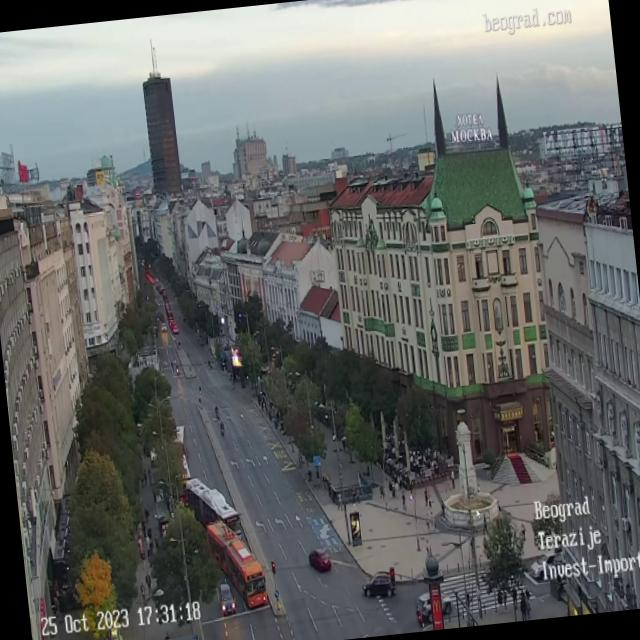bus: (204, 514, 268, 612), (182, 476, 242, 554), (168, 418, 193, 482)
car: (416, 586, 456, 624), (361, 569, 396, 599), (216, 581, 236, 617), (307, 546, 331, 573), (160, 320, 166, 330), (172, 322, 177, 332)
